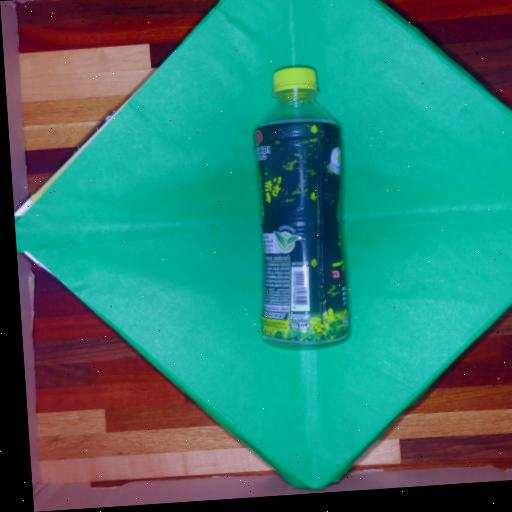bottle: (235, 53, 364, 358)
